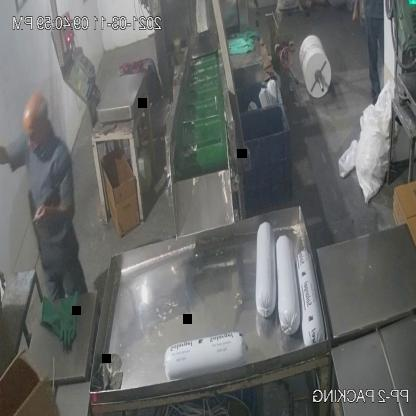no_glove: (27, 189, 77, 243)
